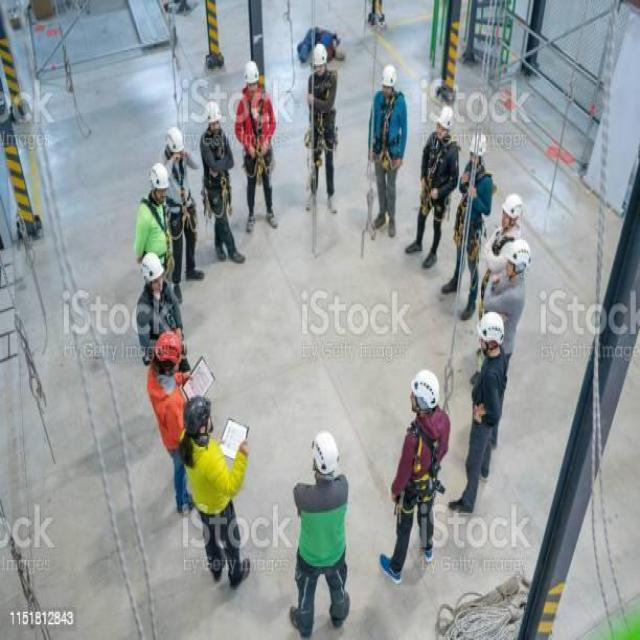Belt: (396, 412, 450, 511), (414, 127, 460, 220), (237, 82, 275, 182), (137, 190, 178, 279), (138, 284, 182, 362), (453, 156, 488, 249), (305, 64, 341, 152), (199, 127, 234, 215), (368, 91, 405, 173), (164, 147, 195, 231)
